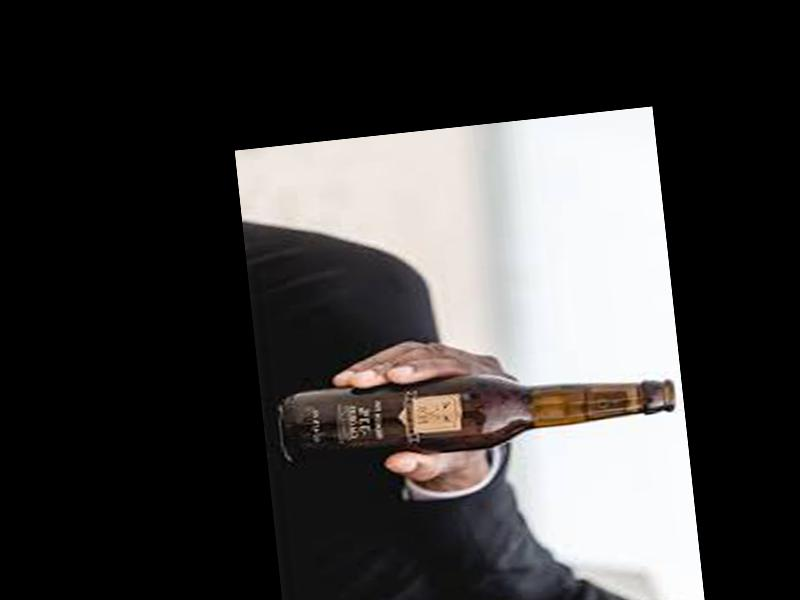Beer: (275, 352, 678, 467)
